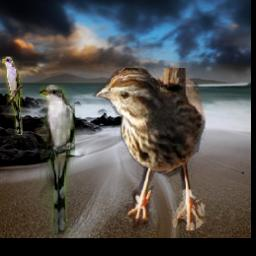Cuckoo: (40, 85, 75, 234), (1, 56, 22, 135)
Sparrow: (93, 69, 206, 231)
